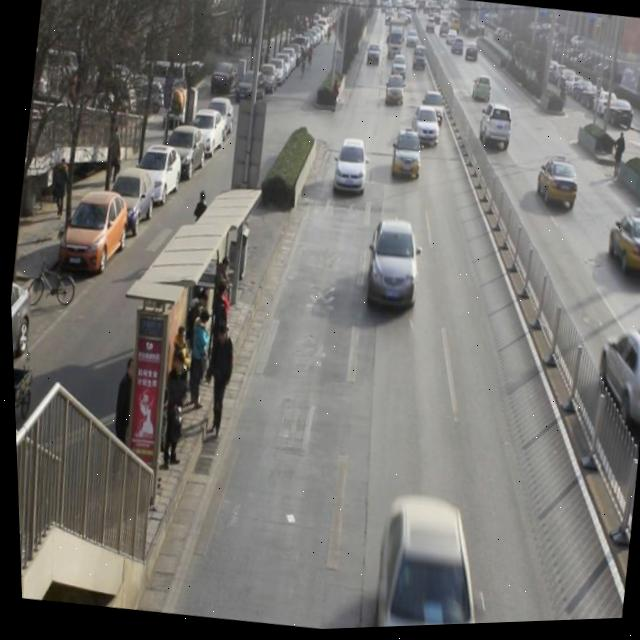car: (362, 493, 498, 630), (358, 216, 427, 319), (589, 328, 640, 439), (532, 156, 583, 220), (602, 209, 640, 285), (328, 137, 372, 200), (474, 104, 516, 157), (387, 128, 424, 186), (406, 105, 443, 153), (419, 92, 448, 128), (382, 76, 407, 108), (470, 78, 493, 108)
